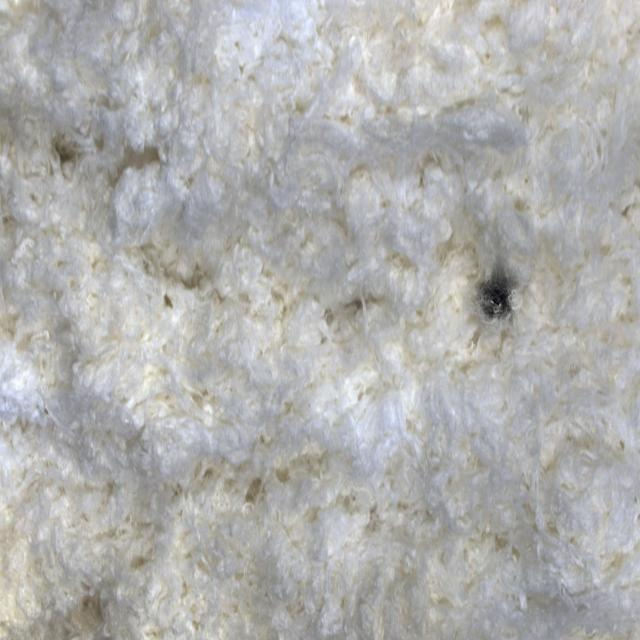dust: (463, 239, 537, 358)
